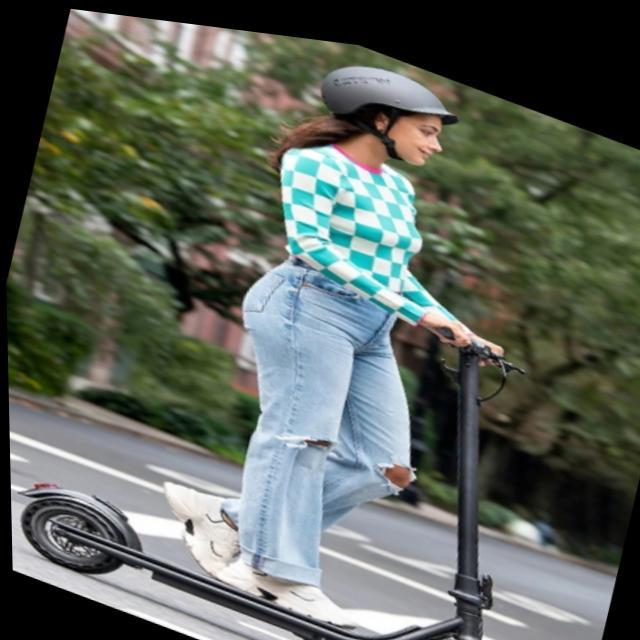Helmet: (313, 56, 465, 176)
